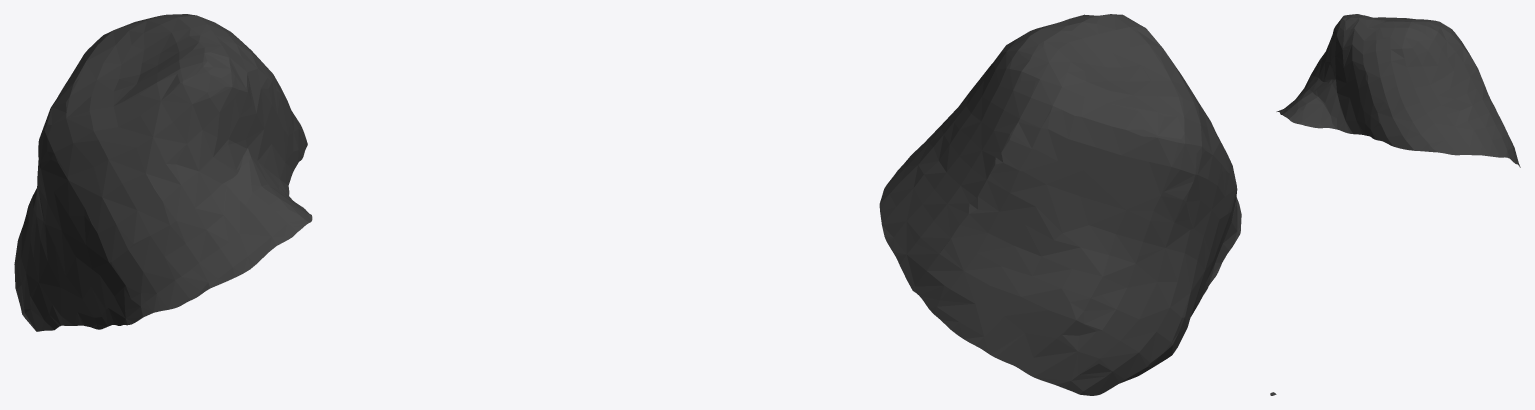
The model's file is ergot.glb.
3 renders of one model, left to right at view 1: azimuth 30°, elevation 25°; view 2: azimuth 150°, elevation 25°; view 3: azimuth 270°, elevation 25°, orthographic. The views are drawn at different scales.
Visible parts, largest first — view 1: ergot; view 2: ergot; view 3: ergot.
Part boxes in pixels (x1,y1,x2,y2): ergot: (14, 14, 312, 331); ergot: (879, 14, 1241, 395); ergot: (1270, 14, 1520, 395).
Bounding box in the file's own units: 0.0992 × 0.0666 × 0.0613.
1 material, 1 textured.
